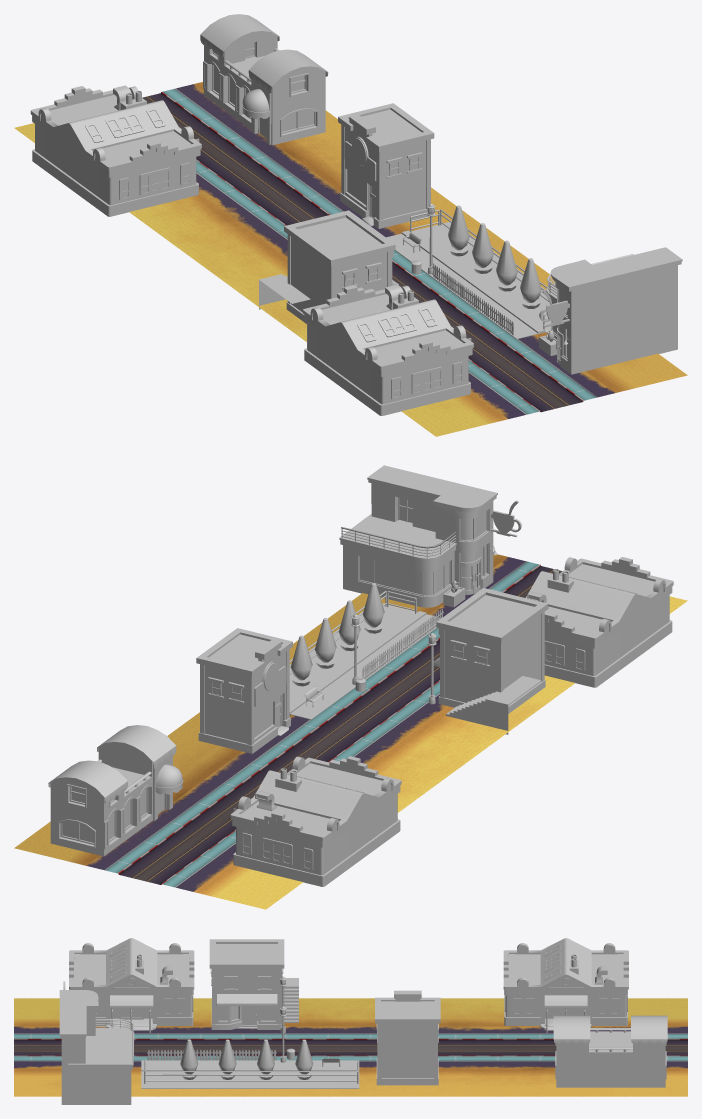
The model's file is cityBuildings.fbx.
The picture shows the model from 3 angles, top to bottom: view 1: azimuth 30°, elevation 25°; view 2: azimuth 150°, elevation 25°; view 3: azimuth 270°, elevation 25°; orthographic projection. The views are drawn at different scales.
Visible parts, largest first — view 1: bridgeRoad_low1, building_01_low1, building_01_low, building_06_low, building_04_low, building_05f_low, building_02_low, garden_floor_low, gardenTree_low2, gardenTree_low, gardenTree_low3, gardenTree_low1; view 2: bridgeRoad_low1, building_06_low, building_01_low1, building_01_low, building_02_low, building_04_low, building_05f_low, garden_floor_low, gardenTree_low3, gardenTree_low1, gardenTree_low; view 3: bridgeRoad_low1, building_01_low1, building_01_low, building_04_low, building_06_low, building_02_low, building_05f_low, garden_floor_low, ralling_03_low, gardenTree_low3, gardenTree_low2, gardenTree_low1 (+1 smaller).
Part boxes in pixels (x1,y1,x2,y2): bridgeRoad_low1: [14, 82, 687, 436]; building_01_low1: [30, 85, 201, 216]; building_01_low: [303, 284, 473, 415]; building_06_low: [539, 247, 682, 374]; building_04_low: [200, 14, 328, 145]; building_05f_low: [338, 103, 434, 228]; building_02_low: [259, 210, 398, 323]; garden_floor_low: [386, 222, 551, 339]; gardenTree_low2: [496, 240, 517, 291]; gardenTree_low: [448, 205, 469, 256]; gardenTree_low3: [520, 258, 541, 308]; gardenTree_low1: [472, 223, 493, 273]; bridgeRoad_low1: [14, 554, 687, 909]; building_06_low: [339, 465, 521, 607]; building_01_low1: [230, 756, 401, 886]; building_01_low: [526, 557, 673, 687]; building_02_low: [433, 588, 547, 734]; building_04_low: [48, 725, 183, 856]; building_05f_low: [196, 628, 292, 753]; garden_floor_low: [289, 603, 441, 719]; gardenTree_low3: [362, 583, 384, 633]; gardenTree_low1: [314, 618, 336, 668]; gardenTree_low: [290, 635, 312, 686]; bridgeRoad_low1: [14, 998, 687, 1096]; building_01_low1: [503, 938, 628, 1032]; building_01_low: [69, 938, 194, 1032]; building_04_low: [553, 1015, 667, 1087]; building_06_low: [59, 981, 134, 1104]; building_02_low: [209, 939, 298, 1029]; building_05f_low: [375, 990, 440, 1085]; garden_floor_low: [141, 1060, 359, 1088]; ralling_03_low: [144, 1071, 358, 1083]; gardenTree_low3: [180, 1039, 198, 1079]; gardenTree_low2: [218, 1039, 236, 1079]; gardenTree_low1: [257, 1039, 274, 1079].
Size of the model in its own units: 4436 by 1372 by 10951.
